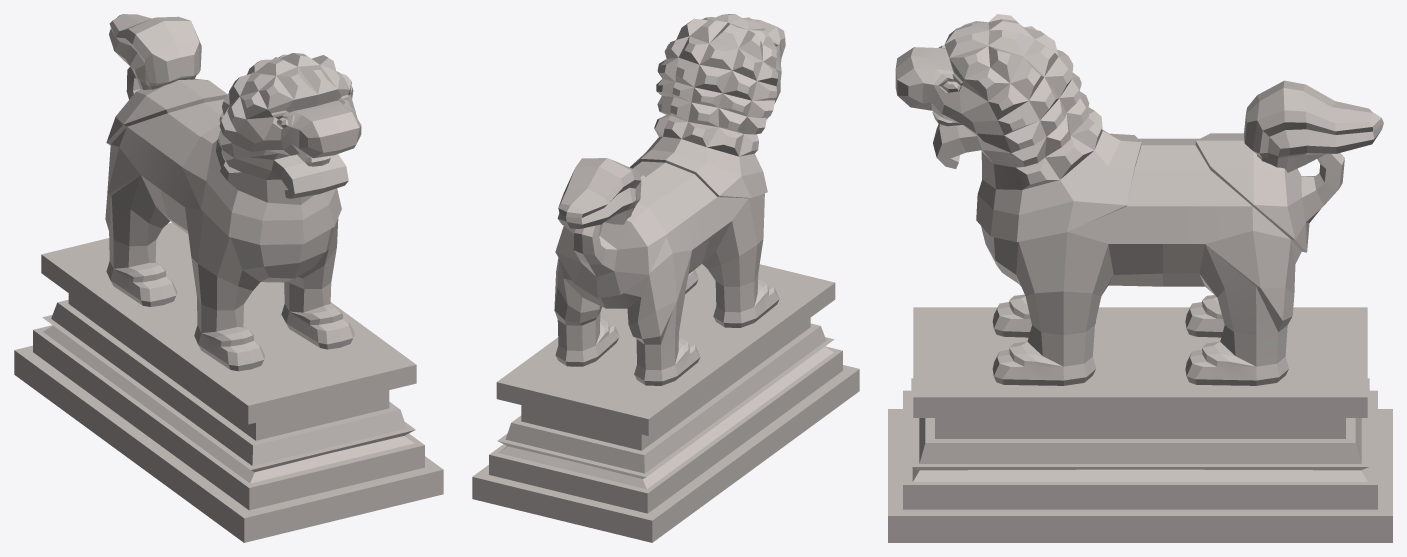
The model's file is SM_Sculpture_09.fbx.
3 renders of one model, left to right at view 1: azimuth 30°, elevation 25°; view 2: azimuth 150°, elevation 25°; view 3: azimuth 270°, elevation 25°, orthographic. The views are drawn at different scales.
Visible parts, largest first — view 1: SM_Sculpture_9; view 2: SM_Sculpture_9; view 3: SM_Sculpture_9.
Boxes of the visible parts, box(x1,y1,x2,y2) form: SM_Sculpture_9: box(14, 14, 443, 542); SM_Sculpture_9: box(472, 14, 859, 542); SM_Sculpture_9: box(888, 14, 1392, 542).
Size of the model in its own units: 226 by 458 by 452.
